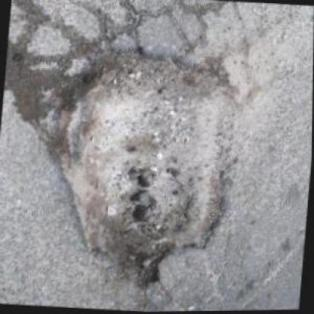Hueco: (34, 38, 245, 295)
